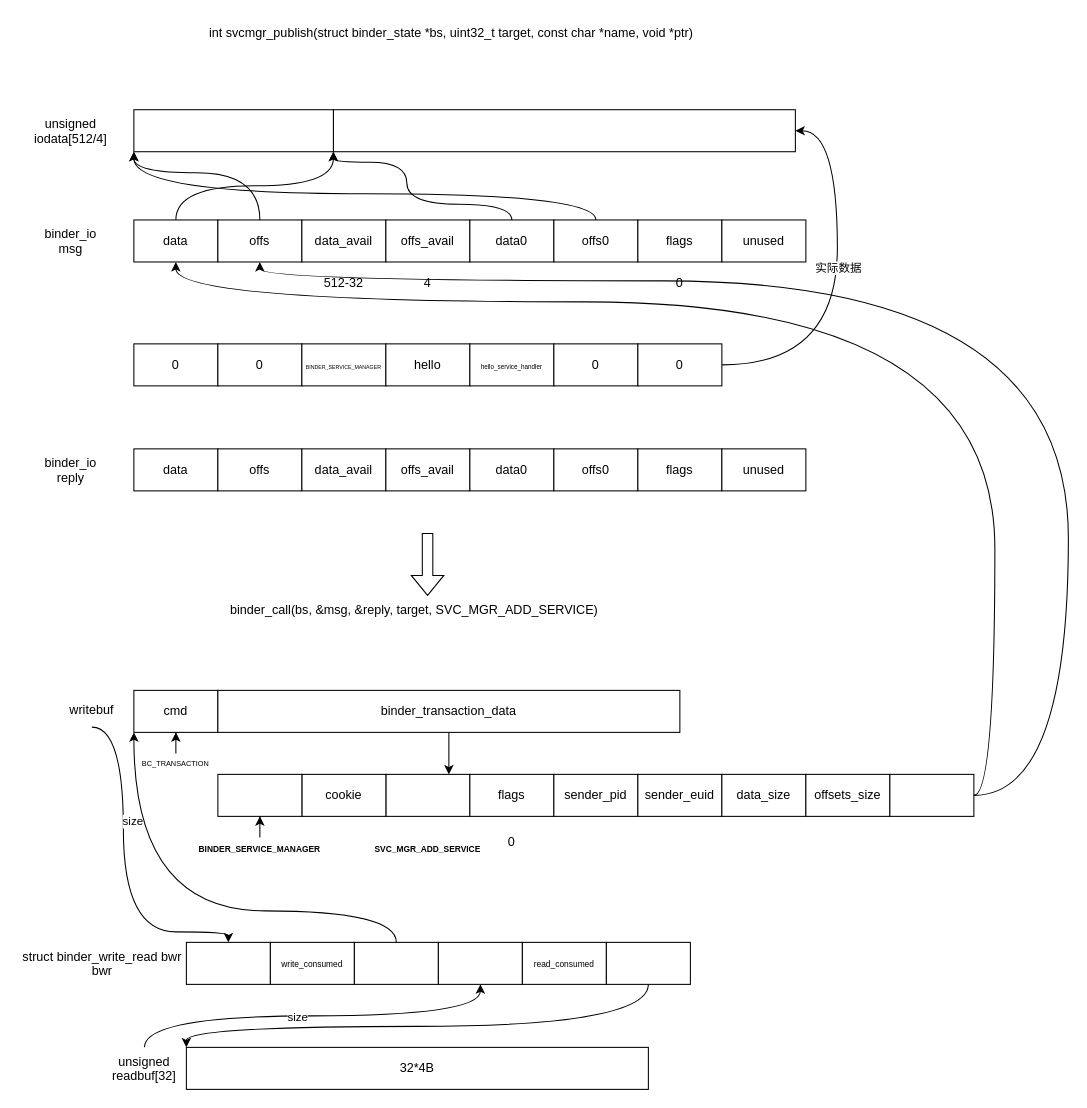
This 1087x1108 diagram has some shape labels left out. Each missing label, with the box of its shape:
32B: (133, 109, 333, 152)
code: (385, 773, 470, 816)
data ptr/buf buffers offsets: (889, 773, 974, 816)
read_buffer: (605, 941, 690, 984)
read_size: (437, 941, 522, 984)
target handle/ptr: (217, 773, 302, 816)
write_buffer: (353, 941, 438, 984)
write_size: (185, 941, 270, 984)
